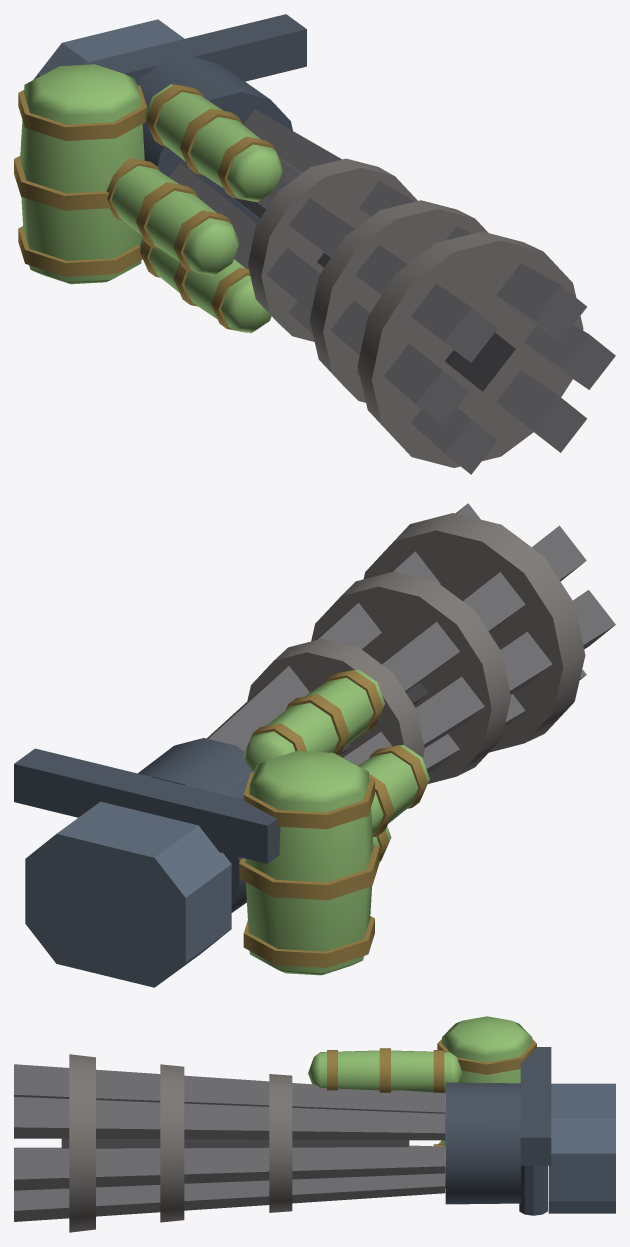
Rendered from jiatelin.fbx.
The picture shows the model from 3 angles, top to bottom: view 1: azimuth 30°, elevation 25°; view 2: azimuth 150°, elevation 25°; view 3: azimuth 270°, elevation 25°; orthographic projection. The views are drawn at different scales.
Visible parts, largest first — view 1: gun, hold; view 2: hold, gun; view 3: gun, hold.
Part boxes in pixels (x1,y1,x2,y2): gun: (169,109,615,474); hold: (14,14,306,333); hold: (14,669,429,987); gun: (207,503,615,783); gun: (14,1054,445,1232); hold: (308,1016,615,1215).
Bounding box in the file's own units: 2.76 × 1.85 × 6.26.
